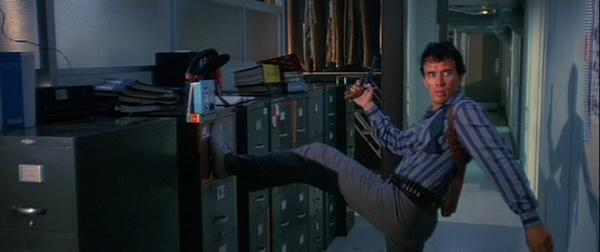Gun: (344, 55, 379, 100)
